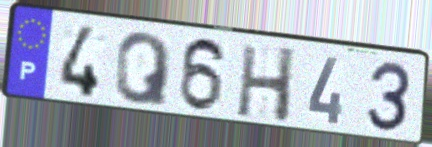3: (364, 60, 413, 135)
4: (58, 24, 104, 101), (306, 55, 346, 126)
6: (179, 35, 234, 115)
H: (234, 43, 299, 126)
Q: (112, 31, 175, 109)
